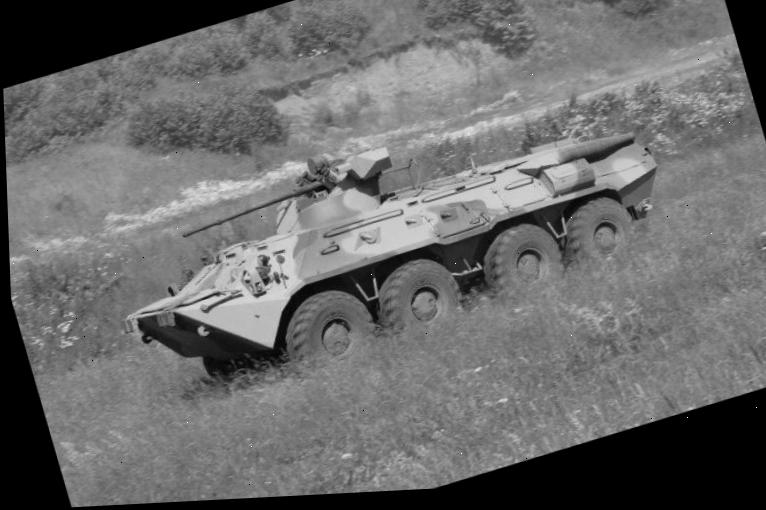tank: (88, 57, 690, 424)
